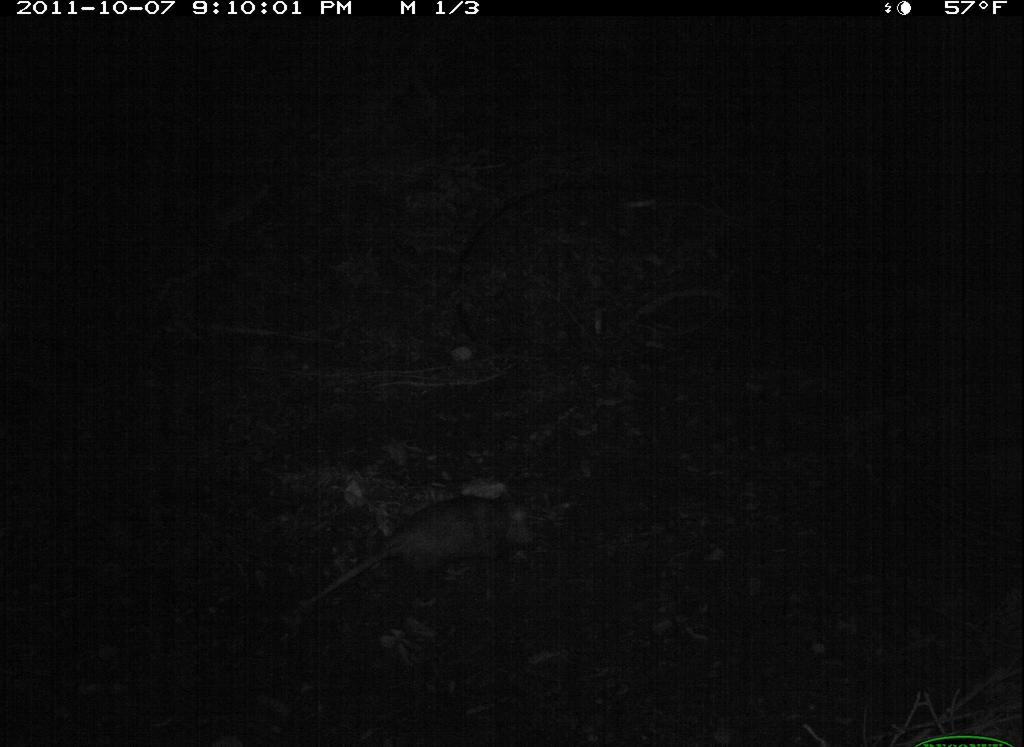opossum: (299, 482, 537, 614)
